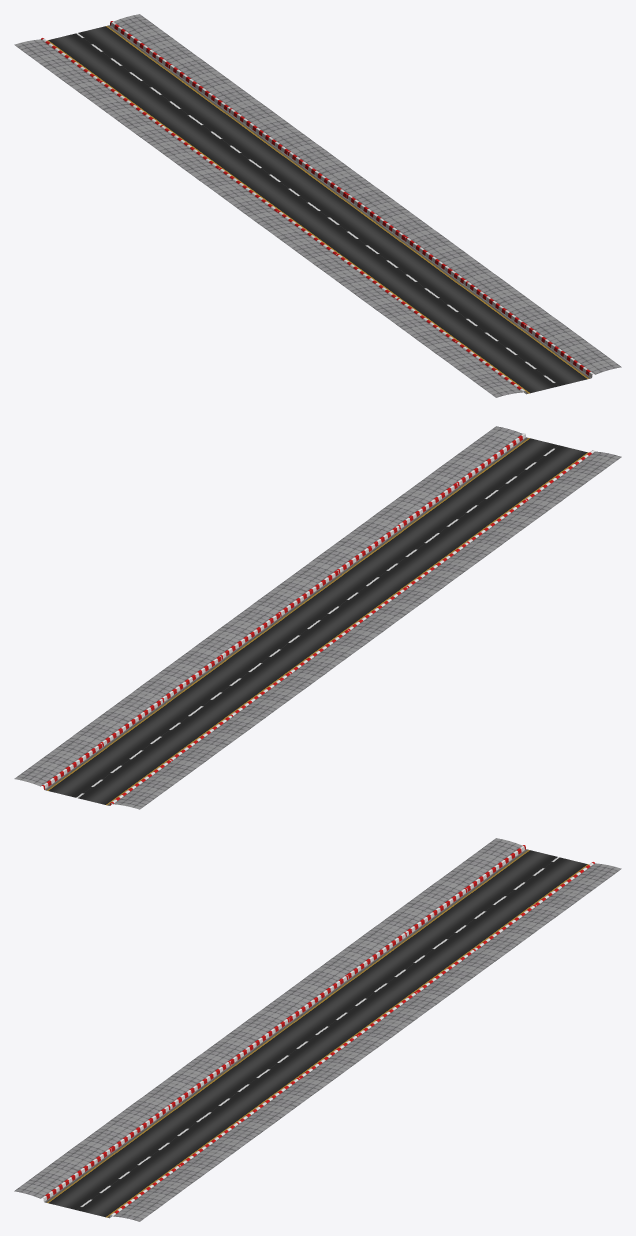
The model's file is arabic1 1.fbx.
3 renders of one model, top to bottom at view 1: azimuth 30°, elevation 25°; view 2: azimuth 150°, elevation 25°; view 3: azimuth 330°, elevation 25°, orthographic.
Parts seen in each view (by area): view 1: Straight Road; view 2: Straight Road; view 3: Straight Road.
Part boxes in pixels (x1=…): Straight Road: x1=14, y1=14, x2=621, y2=397; Straight Road: x1=14, y1=426, x2=621, y2=809; Straight Road: x1=14, y1=838, x2=621, y2=1221.
Size of the model in its own units: 41.52 by 1.34 by 276.
1 material, 1 textured.
